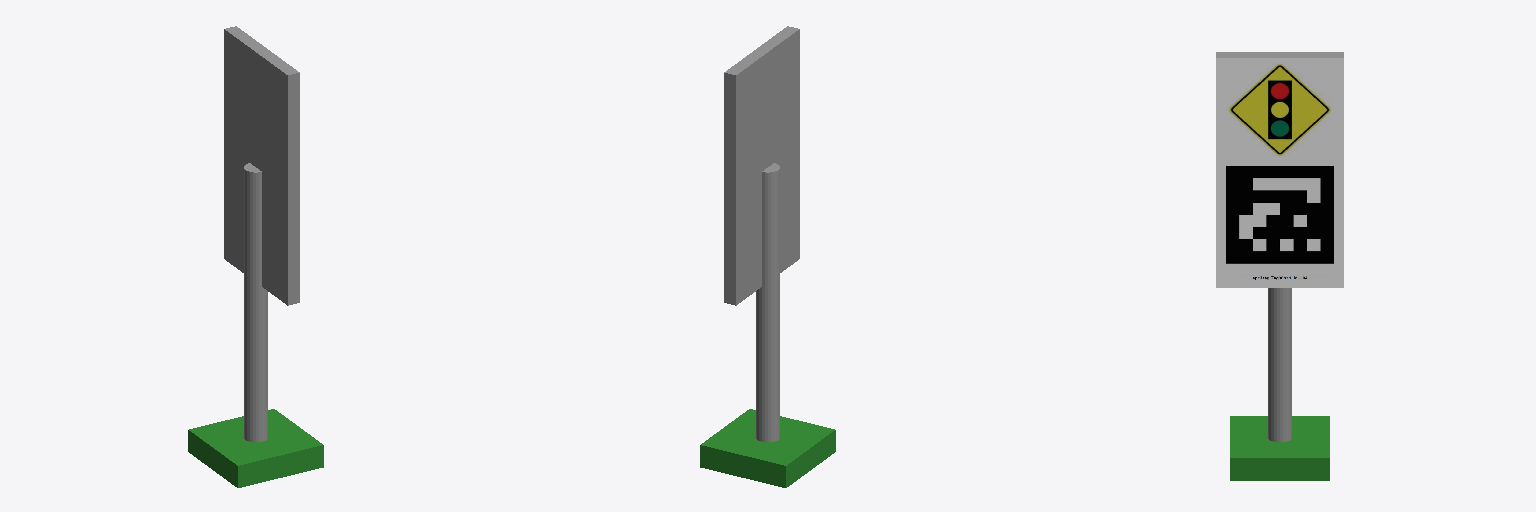
3 views of the same model, side by side, from view 1: azimuth 30°, elevation 25°; view 2: azimuth 150°, elevation 25°; view 3: azimuth 270°, elevation 25° (orthographic).
Parts seen in each view (by area): view 1: SketchUp.002_ID23, SketchUp_ID2, SketchUp.001_ID10; view 2: SketchUp.002_ID23, SketchUp_ID2, SketchUp.001_ID10; view 3: SketchUp.003_ID31, SketchUp_ID2, SketchUp.001_ID10, SketchUp.002_ID23.
Boxes of the visible parts, x1,y1,x2,y2 form: SketchUp.002_ID23: [224, 26, 299, 305]; SketchUp_ID2: [188, 409, 323, 487]; SketchUp.001_ID10: [244, 163, 267, 441]; SketchUp.002_ID23: [724, 26, 799, 305]; SketchUp_ID2: [700, 409, 835, 487]; SketchUp.001_ID10: [756, 163, 779, 441]; SketchUp.003_ID31: [1216, 58, 1343, 287]; SketchUp_ID2: [1230, 416, 1329, 480]; SketchUp.001_ID10: [1268, 288, 1291, 441]; SketchUp.002_ID23: [1216, 52, 1343, 57].
Size of the model in its own units: 0.0508 by 0.2301 by 0.065.
Materials: 3 (1 with a texture image).